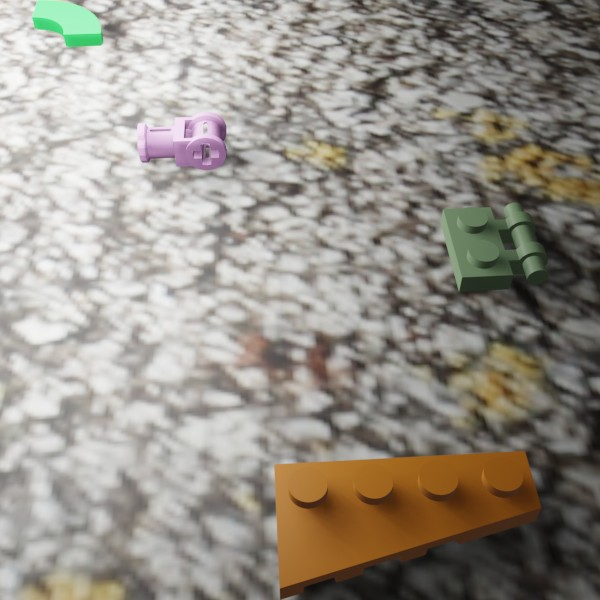lego: (274, 450, 541, 600), (440, 202, 548, 291), (137, 111, 226, 170), (31, 0, 103, 47)
